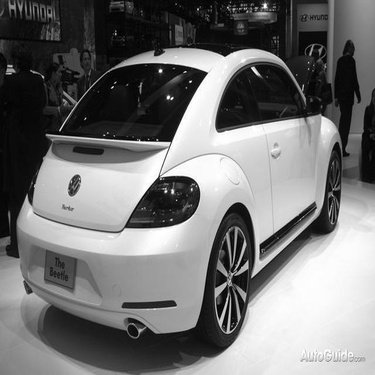car: (4, 34, 349, 351)
